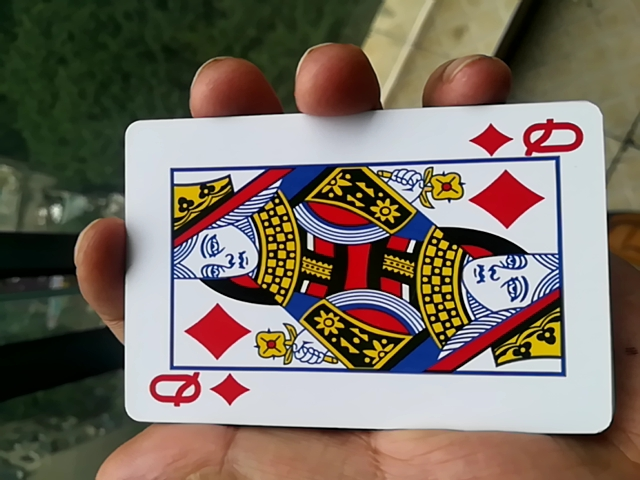fk q: (101, 111, 611, 442)
